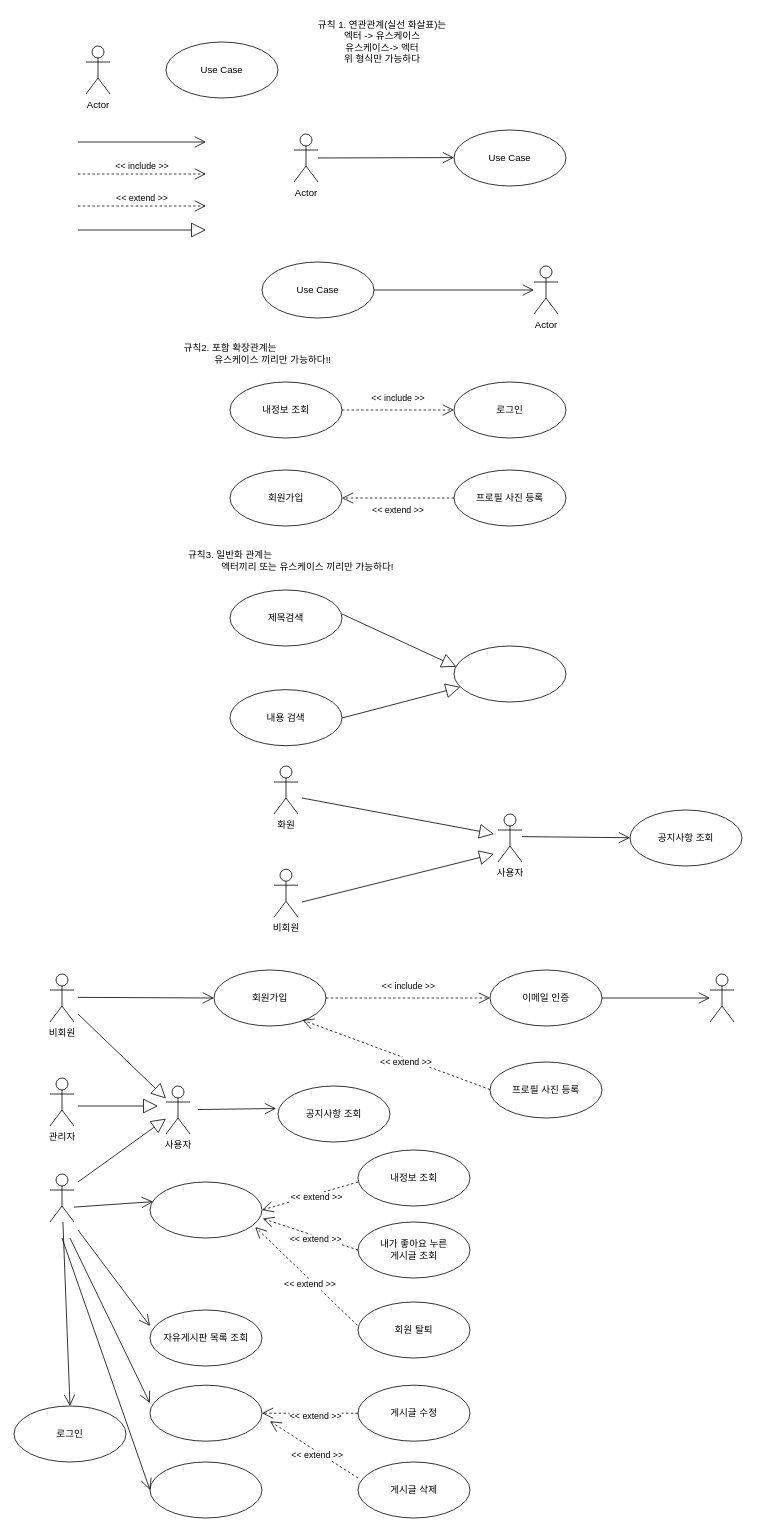
The diagram is 758 pixels wide and 1532 high, and some of its shapes have lost their labels. The centre of each missing label's shape, as x and y in pixels:
"Gmail 서버" belongs at (x=721, y=997).
"게시글 검색" belongs at (x=509, y=673).
"마이페이지" belongs at (x=205, y=1209).
"자유게시판 글 작성" belongs at (x=205, y=1489).
"자유게시판 상세 조회" belongs at (x=205, y=1412).
"회원" belongs at (x=61, y=1197).
